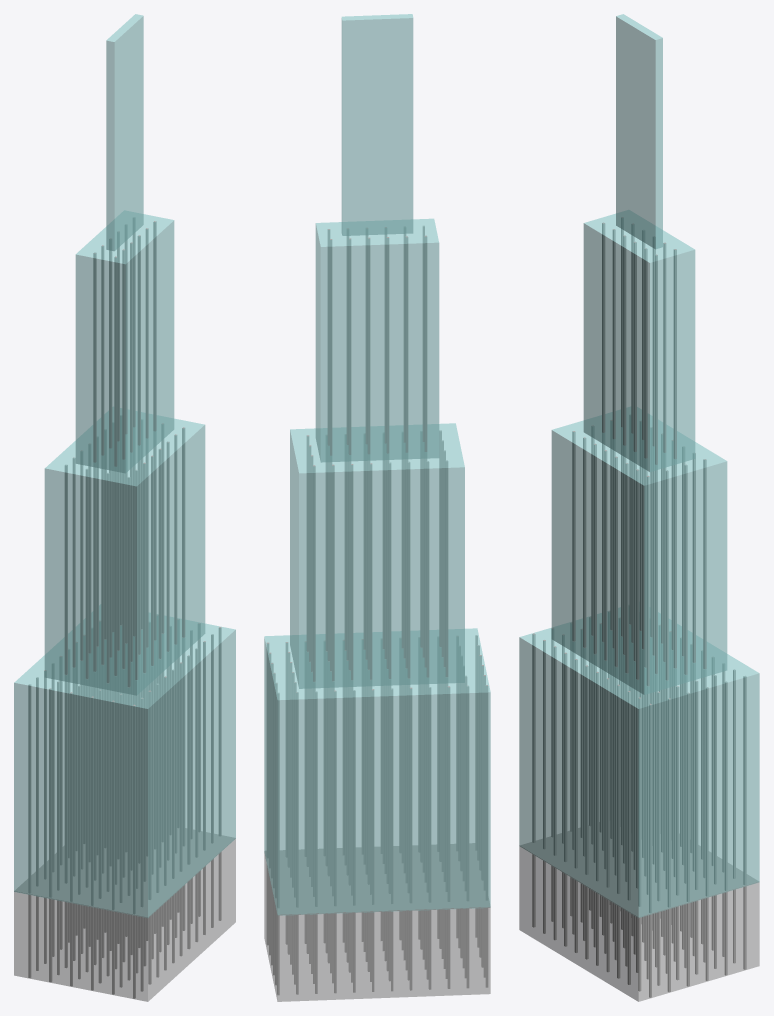
Rendered from structureMass.glb.
3 views of the same model, side by side, from view 1: azimuth 30°, elevation 25°; view 2: azimuth 150°, elevation 25°; view 3: azimuth 270°, elevation 25° (orthographic). The views are drawn at different scales.
Parts seen in each view (by area): view 1: 52cb4e2b-d301-490c-b46c-4990d5642e45_mesh, 50dcd397-56e2-4c03-b79e-5ba259584ccb_mesh, 0332acda-6a20-4445-b53b-177e58f40c94_mesh, 2c7dd1a7-4c19-4ab5-b88b-079749546a6b_mesh, 448f14f8-0f6b-474a-855e-6996a3d3e9c8_mesh, da7c0c64-ca9b-46ac-9176-234da357a2f2_mesh, 28ff2ba3-c1b1-477f-bb20-60942221ec85_mesh, 59da3c5a-e968-48ae-9a7f-107e27d60631_mesh, e8775f2d-bf80-47ae-aae9-ffe4f22d7bc2_mesh, 67923553-5df1-4fa7-931b-9443b69f9b58_mesh, 144c4ea1-10b7-45bc-92e4-ae9e99225e96_mesh, 240d9609-7df5-4b63-9c36-182b1a363a21_mesh (+69 smaller); view 2: 52cb4e2b-d301-490c-b46c-4990d5642e45_mesh, 50dcd397-56e2-4c03-b79e-5ba259584ccb_mesh, 0332acda-6a20-4445-b53b-177e58f40c94_mesh, 2c7dd1a7-4c19-4ab5-b88b-079749546a6b_mesh, 448f14f8-0f6b-474a-855e-6996a3d3e9c8_mesh, da7c0c64-ca9b-46ac-9176-234da357a2f2_mesh, 0e1ba8fb-069c-4ac6-a47a-54f0969628d1_mesh, ef46a58f-9a6a-4635-81b6-5c26b749aa97_mesh, fa856ae4-1890-4621-be4b-86c5270ce21e_mesh, 4238303b-8e19-424a-bfed-2a8b9207047e_mesh, 031a6cef-ffed-4104-87f4-f7e349411f6b_mesh, acd974a0-20a6-47f6-913d-2dbb123b0a56_mesh (+8 smaller); view 3: 52cb4e2b-d301-490c-b46c-4990d5642e45_mesh, 50dcd397-56e2-4c03-b79e-5ba259584ccb_mesh, 0332acda-6a20-4445-b53b-177e58f40c94_mesh, 2c7dd1a7-4c19-4ab5-b88b-079749546a6b_mesh, 448f14f8-0f6b-474a-855e-6996a3d3e9c8_mesh, da7c0c64-ca9b-46ac-9176-234da357a2f2_mesh, 3a0c4c1a-4f8b-46e7-8912-344db35ff412_mesh, 0e1ba8fb-069c-4ac6-a47a-54f0969628d1_mesh, e3ff6183-0b95-4b06-823f-b5de12bf8c40_mesh, ef46a58f-9a6a-4635-81b6-5c26b749aa97_mesh, b8b7f382-64e5-42fc-ab26-a464895eba24_mesh, 93ef60ed-7c49-4978-99be-a069e16a79ea_mesh (+55 smaller).
Part boxes in pixels (x1,y1,x2,y2): 52cb4e2b-d301-490c-b46c-4990d5642e45_mesh: [14, 604, 235, 917]; 50dcd397-56e2-4c03-b79e-5ba259584ccb_mesh: [44, 407, 205, 695]; 0332acda-6a20-4445-b53b-177e58f40c94_mesh: [75, 210, 174, 473]; 2c7dd1a7-4c19-4ab5-b88b-079749546a6b_mesh: [14, 839, 235, 1001]; 448f14f8-0f6b-474a-855e-6996a3d3e9c8_mesh: [106, 14, 143, 250]; da7c0c64-ca9b-46ac-9176-234da357a2f2_mesh: [14, 828, 235, 917]; 28ff2ba3-c1b1-477f-bb20-60942221ec85_mesh: [93, 252, 96, 462]; 59da3c5a-e968-48ae-9a7f-107e27d60631_mesh: [153, 221, 156, 431]; e8775f2d-bf80-47ae-aae9-ffe4f22d7bc2_mesh: [148, 690, 151, 899]; 67923553-5df1-4fa7-931b-9443b69f9b58_mesh: [187, 655, 190, 864]; 144c4ea1-10b7-45bc-92e4-ae9e99225e96_mesh: [93, 463, 96, 671]; 240d9609-7df5-4b63-9c36-182b1a363a21_mesh: [182, 427, 184, 637]; 52cb4e2b-d301-490c-b46c-4990d5642e45_mesh: [264, 628, 490, 915]; 50dcd397-56e2-4c03-b79e-5ba259584ccb_mesh: [290, 423, 464, 688]; 0332acda-6a20-4445-b53b-177e58f40c94_mesh: [315, 218, 439, 462]; 2c7dd1a7-4c19-4ab5-b88b-079749546a6b_mesh: [264, 853, 490, 1001]; 448f14f8-0f6b-474a-855e-6996a3d3e9c8_mesh: [341, 14, 413, 235]; da7c0c64-ca9b-46ac-9176-234da357a2f2_mesh: [264, 843, 490, 915]; 0e1ba8fb-069c-4ac6-a47a-54f0969628d1_mesh: [313, 465, 315, 681]; ef46a58f-9a6a-4635-81b6-5c26b749aa97_mesh: [439, 430, 441, 646]; fa856ae4-1890-4621-be4b-86c5270ce21e_mesh: [332, 464, 334, 680]; 4238303b-8e19-424a-bfed-2a8b9207047e_mesh: [296, 692, 298, 907]; 031a6cef-ffed-4104-87f4-f7e349411f6b_mesh: [353, 690, 355, 905]; acd974a0-20a6-47f6-913d-2dbb123b0a56_mesh: [334, 690, 336, 905]; 52cb4e2b-d301-490c-b46c-4990d5642e45_mesh: [519, 607, 759, 917]; 50dcd397-56e2-4c03-b79e-5ba259584ccb_mesh: [551, 407, 727, 694]; 0332acda-6a20-4445-b53b-177e58f40c94_mesh: [583, 210, 695, 471]; 2c7dd1a7-4c19-4ab5-b88b-079749546a6b_mesh: [519, 846, 759, 1001]; 448f14f8-0f6b-474a-855e-6996a3d3e9c8_mesh: [616, 14, 662, 249]; da7c0c64-ca9b-46ac-9176-234da357a2f2_mesh: [519, 822, 758, 917]; 3a0c4c1a-4f8b-46e7-8912-344db35ff412_mesh: [684, 464, 687, 674]; 0e1ba8fb-069c-4ac6-a47a-54f0969628d1_mesh: [703, 459, 706, 668]; e3ff6183-0b95-4b06-823f-b5de12bf8c40_mesh: [625, 463, 628, 672]; ef46a58f-9a6a-4635-81b6-5c26b749aa97_mesh: [572, 431, 575, 640]; b8b7f382-64e5-42fc-ab26-a464895eba24_mesh: [644, 248, 647, 458]; 93ef60ed-7c49-4978-99be-a069e16a79ea_mesh: [585, 665, 588, 874].
Size of what is drawn, in the model's own units: 55.22 by 220 by 52.02.
